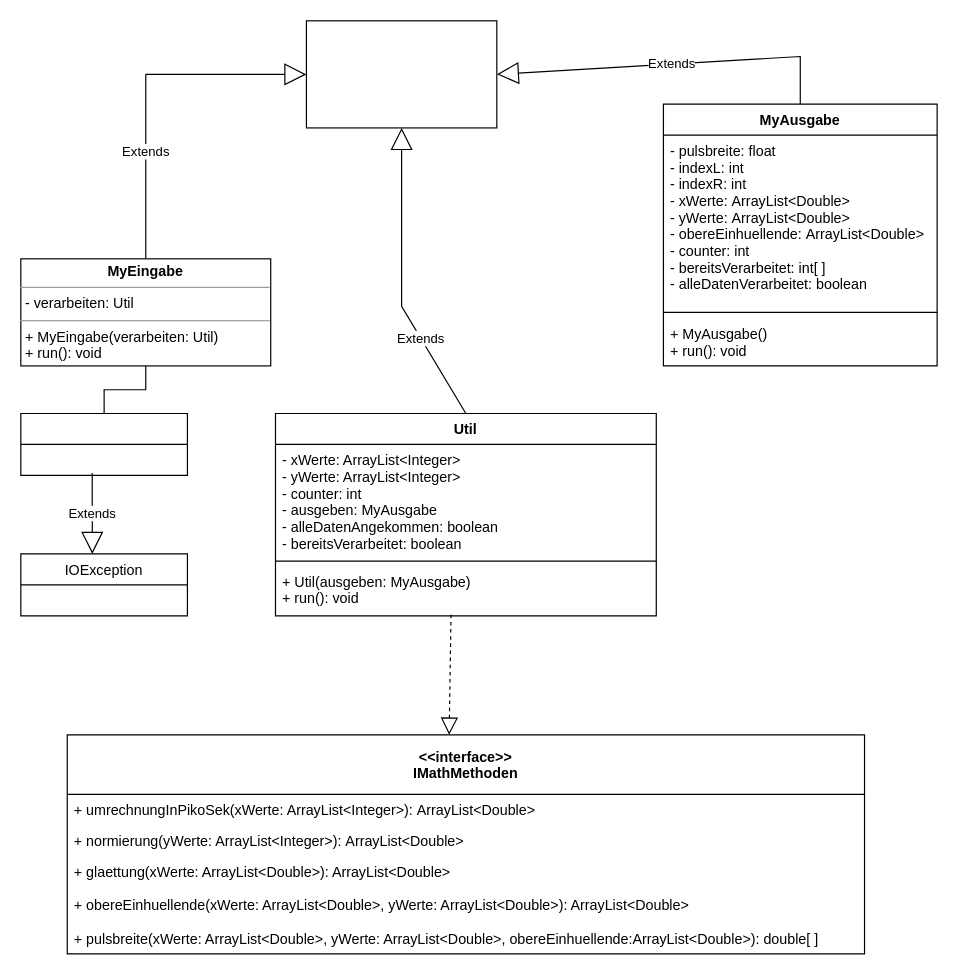
The diagram is 958 pixels wide and 978 high, and some of its shapes have lost their labels. Each missing label, with the centre of its shape:
"InputException" goes at point 103,443.
"Thread" goes at point 401,74.
